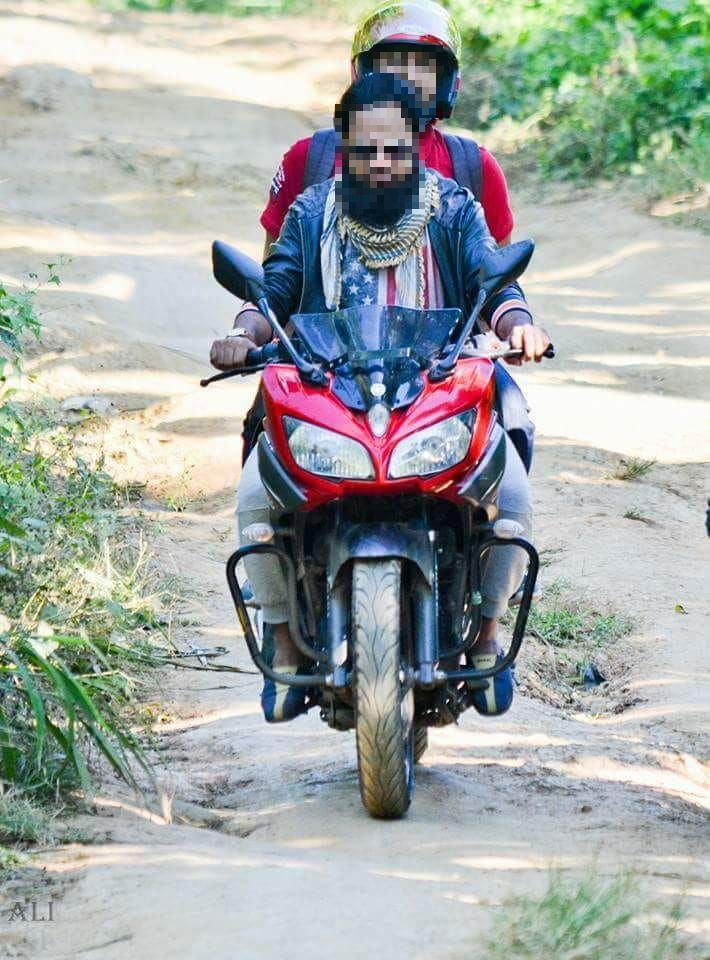bike: (202, 237, 559, 822)
